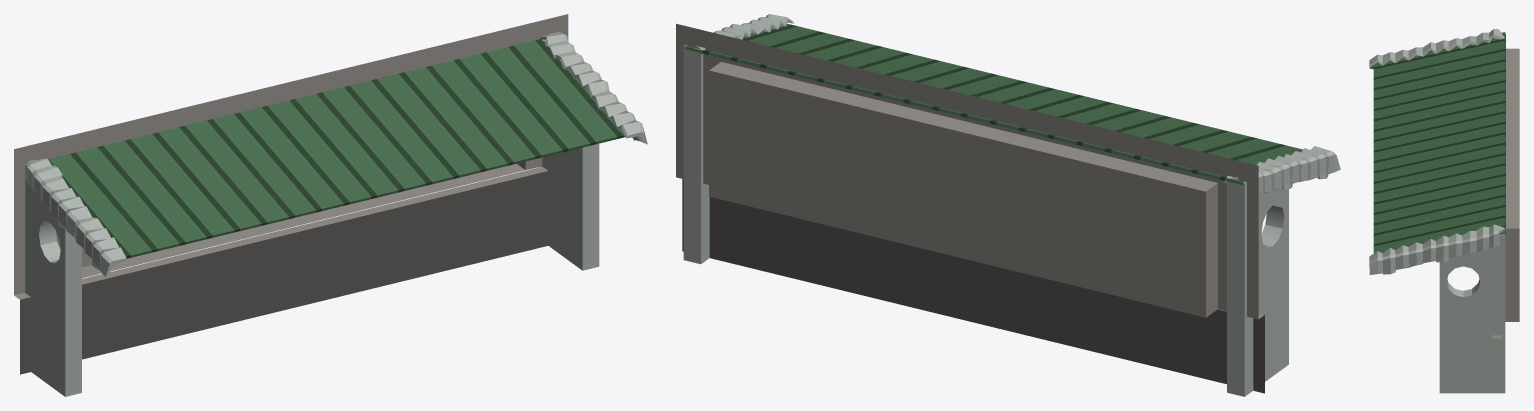
Rendered from SM_Env_Stall_04.fbx.
3 views of the same model, side by side, from view 1: azimuth 30°, elevation 25°; view 2: azimuth 150°, elevation 25°; view 3: azimuth 270°, elevation 25° (orthographic). The views are drawn at different scales.
Visible parts, largest first — view 1: SM_Env_Stall_04; view 2: SM_Env_Stall_04; view 3: SM_Env_Stall_04.
Part boxes in pixels (box(x1,y1,x2,y2)): SM_Env_Stall_04: box(14, 14, 647, 396); SM_Env_Stall_04: box(676, 14, 1340, 396); SM_Env_Stall_04: box(1369, 29, 1519, 393).
Size of the model in its own units: 383 by 146 by 115.
Materials: 1 (1 with a texture image).
